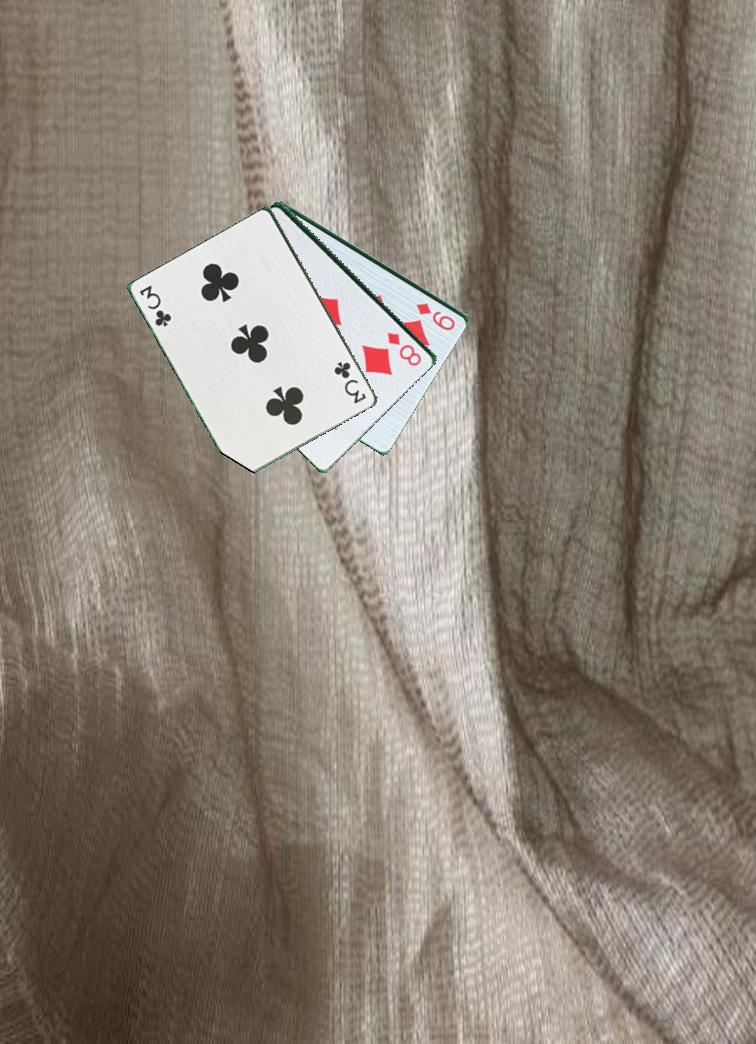3c: (136, 282, 178, 334), (327, 358, 370, 407)
8d: (384, 329, 430, 369)
9d: (413, 299, 459, 333)
